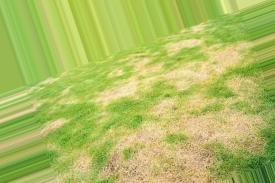patch: (141, 116, 203, 178), (168, 64, 217, 103), (210, 114, 260, 148), (110, 70, 157, 105), (72, 147, 98, 170), (40, 119, 63, 137), (68, 93, 99, 106), (134, 60, 153, 75), (165, 42, 190, 51), (217, 51, 231, 62), (36, 96, 42, 103)
